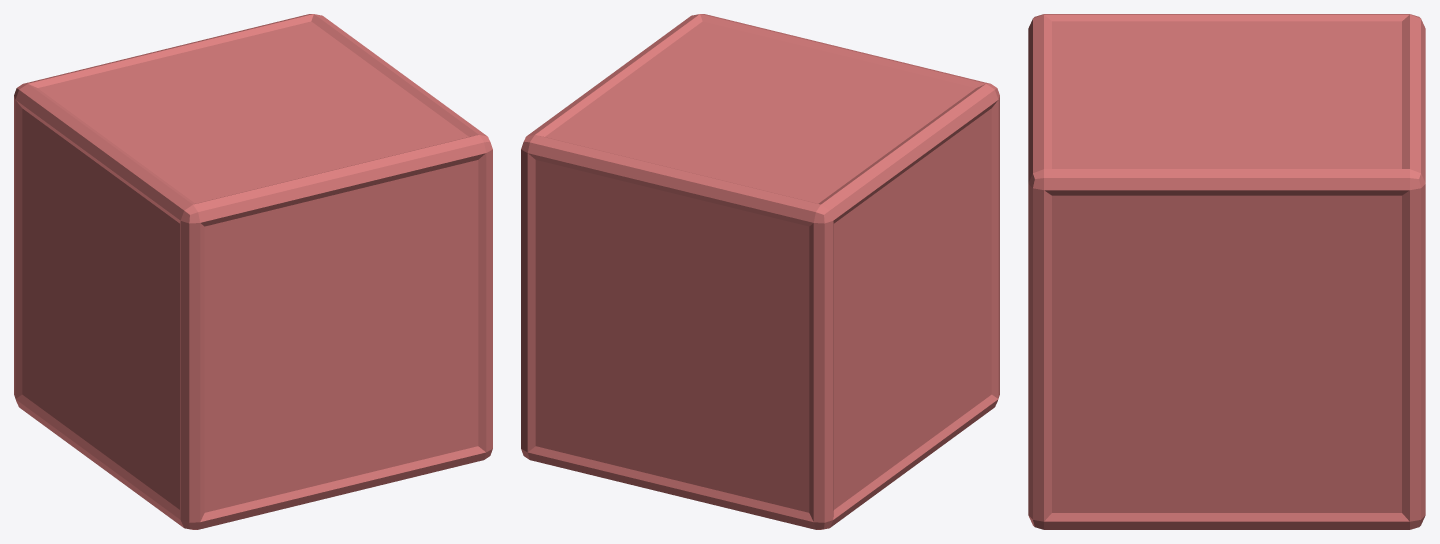
File: SM_DEF_SandbagWall_FullHeight_LG.fbx
3 renders of one model, left to right at view 1: azimuth 30°, elevation 25°; view 2: azimuth 150°, elevation 25°; view 3: azimuth 270°, elevation 25°, orthographic. The views are drawn at different scales.
Parts seen in each view (by area): view 1: SM_DEF_SandbagWall_FullHeight_LG; view 2: SM_DEF_SandbagWall_FullHeight_LG; view 3: SM_DEF_SandbagWall_FullHeight_LG.
Part boxes in pixels (box(x1,y1,x2,y2)): SM_DEF_SandbagWall_FullHeight_LG: box(14, 14, 492, 529); SM_DEF_SandbagWall_FullHeight_LG: box(521, 14, 999, 529); SM_DEF_SandbagWall_FullHeight_LG: box(1028, 14, 1425, 529).
Size of what is drawn, in the model's own units: 2.5 by 2.5 by 2.5.
